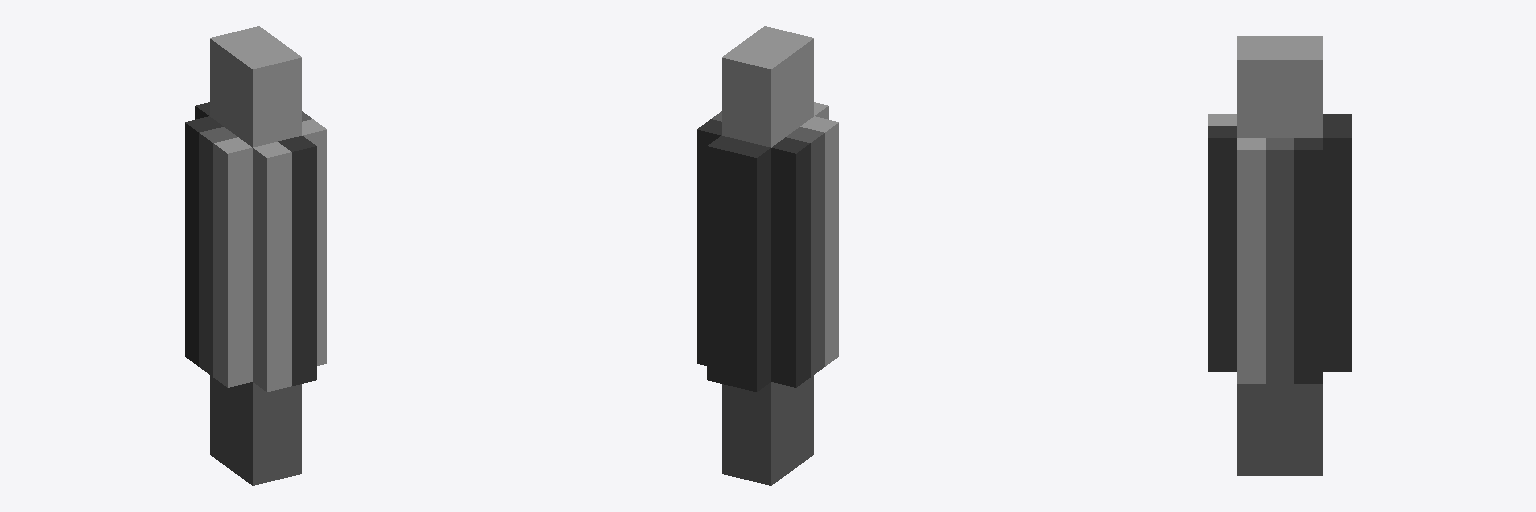
3 renders of one model, left to right at view 1: azimuth 30°, elevation 25°; view 2: azimuth 150°, elevation 25°; view 3: azimuth 270°, elevation 25°, orthographic.
Visible parts, largest first — view 1: object 1; view 2: object 1; view 3: object 1.
Part boxes in pixels (x1,y1,x2,y2): object 1: (185,26,326,485); object 1: (697,26,838,485); object 1: (1208,36,1351,475).
Size of the model in its own units: 0.4 by 1.6 by 0.5.
1 materials, 1 textured.